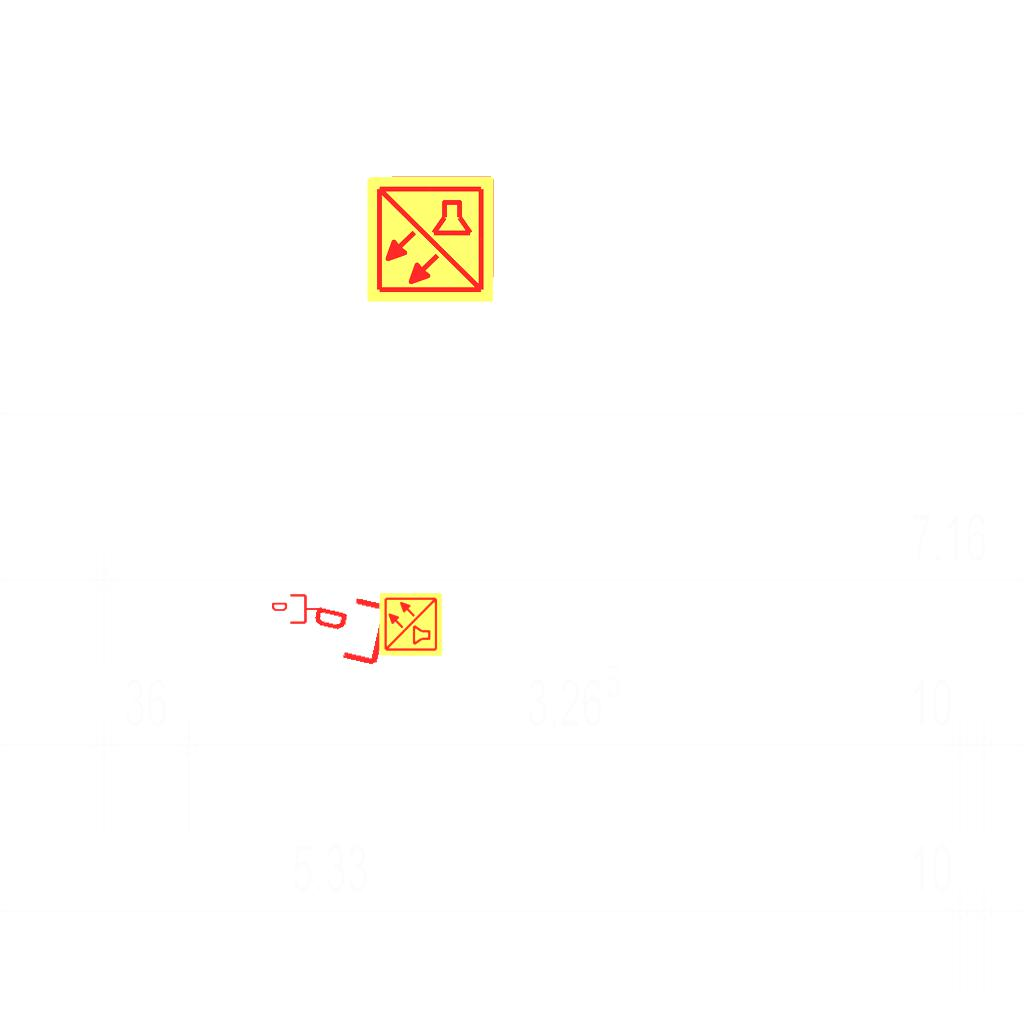Datenanschluss_einfach: (307, 586, 420, 676), (272, 592, 322, 626)
OKW_Multisensormelder_(Kombination_optischer_Rauch-Kahlenmonoxid_Waerme-Melder): (364, 173, 496, 305), (378, 591, 444, 657)
